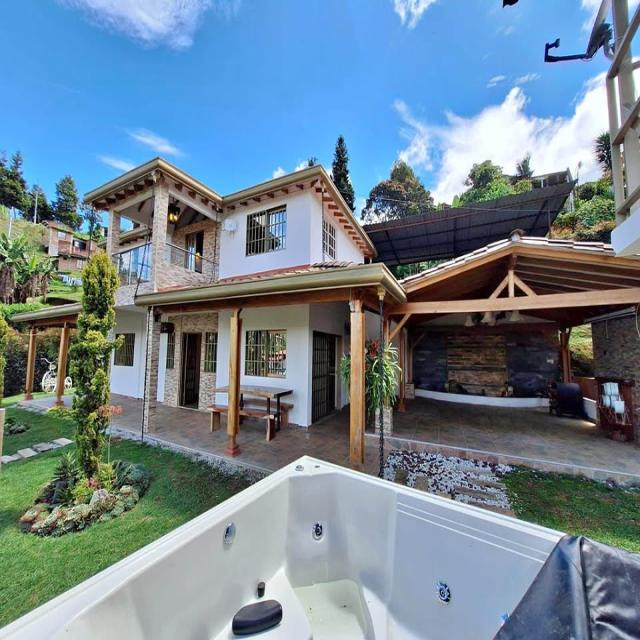Fachada: (85, 156, 640, 433)
